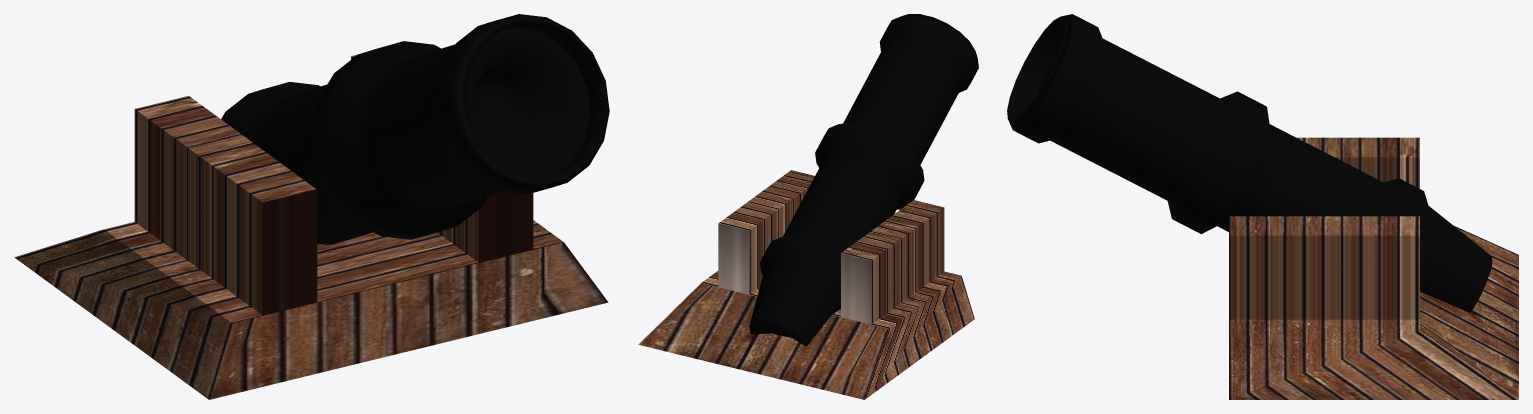
The model's file is Battery.fbx.
The picture shows the model from 3 angles, left to right: view 1: azimuth 30°, elevation 25°; view 2: azimuth 150°, elevation 25°; view 3: azimuth 270°, elevation 25°; orthographic projection. The views are drawn at different scales.
Visible parts, largest first — view 1: Battery; view 2: Battery; view 3: Battery.
Boxes of the visible parts, x1,y1,x2,y2 form: Battery: [14, 14, 609, 399]; Battery: [638, 14, 978, 399]; Battery: [1007, 14, 1518, 399].
Bounding box in the file's own units: 124 × 122 × 184.
2 materials, 1 textured.
